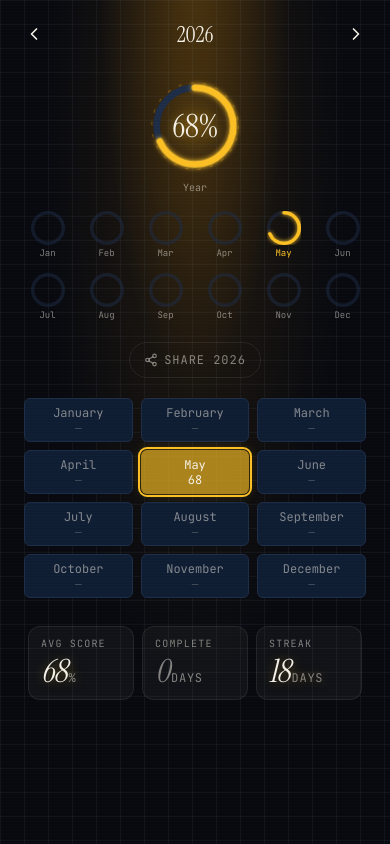
C-m9e-003: YearView — prev/next year nav updates year label + cells + aggregate › clicking Previous year changes label to '2025' and all months are no-data
The image size is (390, 844).
Click the button named "previous year" at (34, 34), box [12, 12, 56, 56]
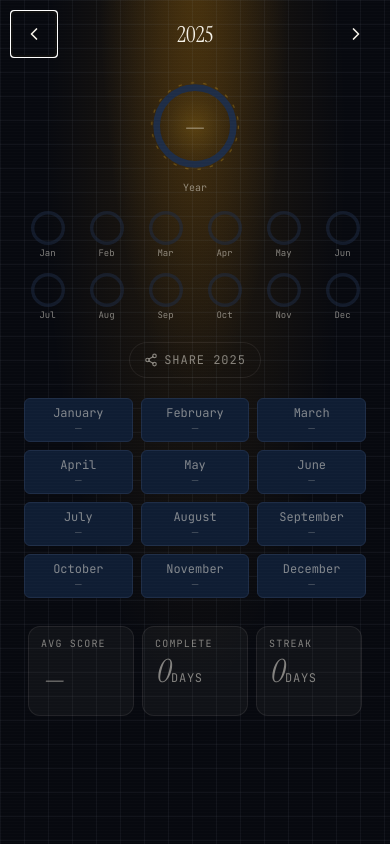
Expected: the button with aria-label "January 2025, no data" is shown, [24, 398, 133, 442]
Now the heading reads "2025", box [177, 20, 213, 48]
Now the list named "Months of 2025" is shown, box [12, 386, 378, 610]
